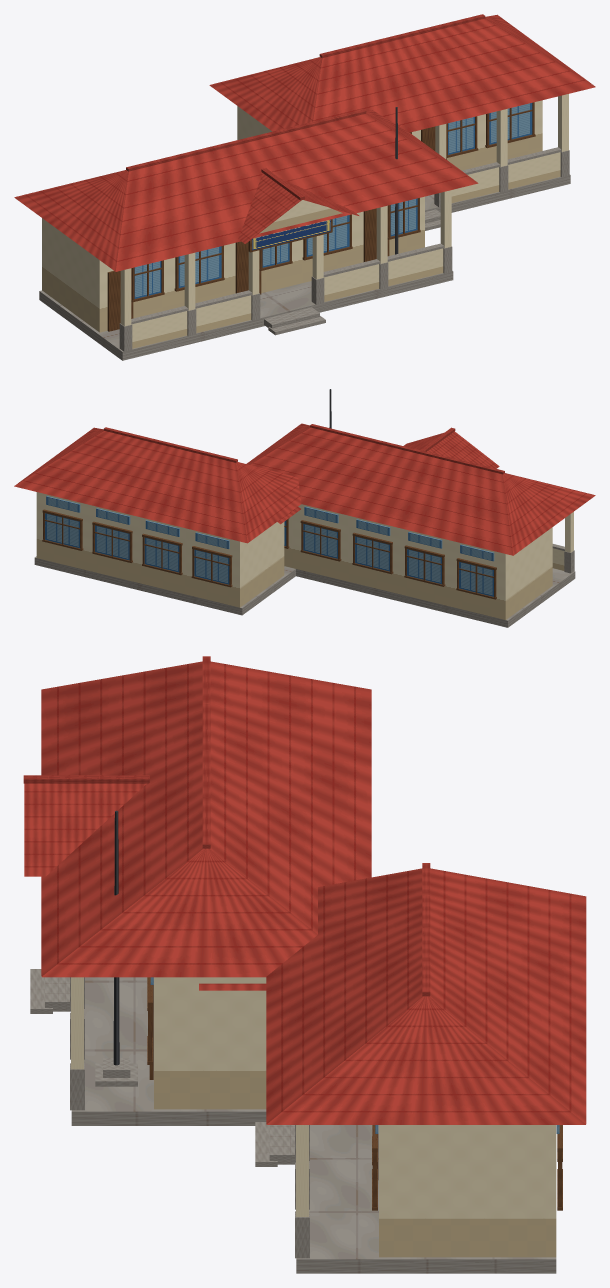
The model's file is sekolah_kampung.glb.
3 views of the same model, one above another, from view 1: azimuth 30°, elevation 25°; view 2: azimuth 150°, elevation 25°; view 3: azimuth 270°, elevation 25° (orthographic). The views are drawn at different scales.
Visible parts, largest first — view 1: Sekolah_Kampung; view 2: Sekolah_Kampung; view 3: Sekolah_Kampung.
Part boxes in pixels (x1,y1,x2,y2): Sekolah_Kampung: (14,14,595,360); Sekolah_Kampung: (14,389,595,627); Sekolah_Kampung: (23,656,586,1273).
Size of the model in its own units: 20.61 by 6.2 by 11.27.
1 material, 1 textured.
